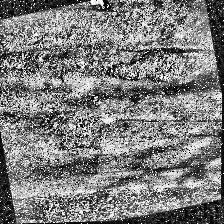pothole: (100, 40, 190, 100), (38, 100, 116, 164)
